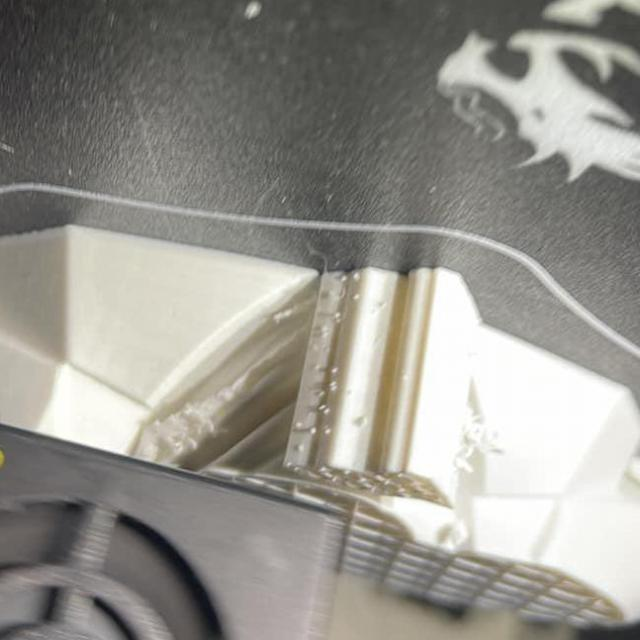zits: (352, 412, 372, 428), (328, 307, 346, 323), (324, 380, 338, 396), (318, 324, 330, 342), (351, 267, 363, 285), (305, 423, 319, 437), (292, 418, 306, 432), (315, 402, 329, 416), (350, 288, 364, 302), (328, 363, 342, 376), (310, 360, 322, 374), (294, 442, 306, 454), (322, 425, 334, 437), (339, 272, 348, 282)
